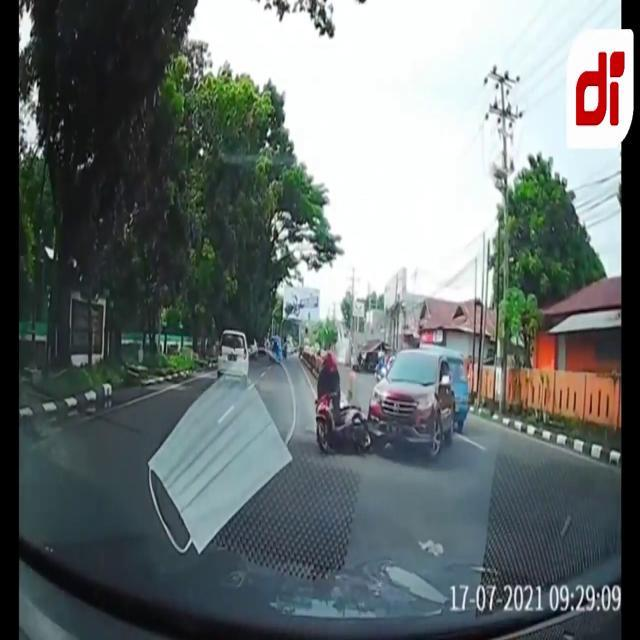multiple_accident: (300, 323, 488, 485)
